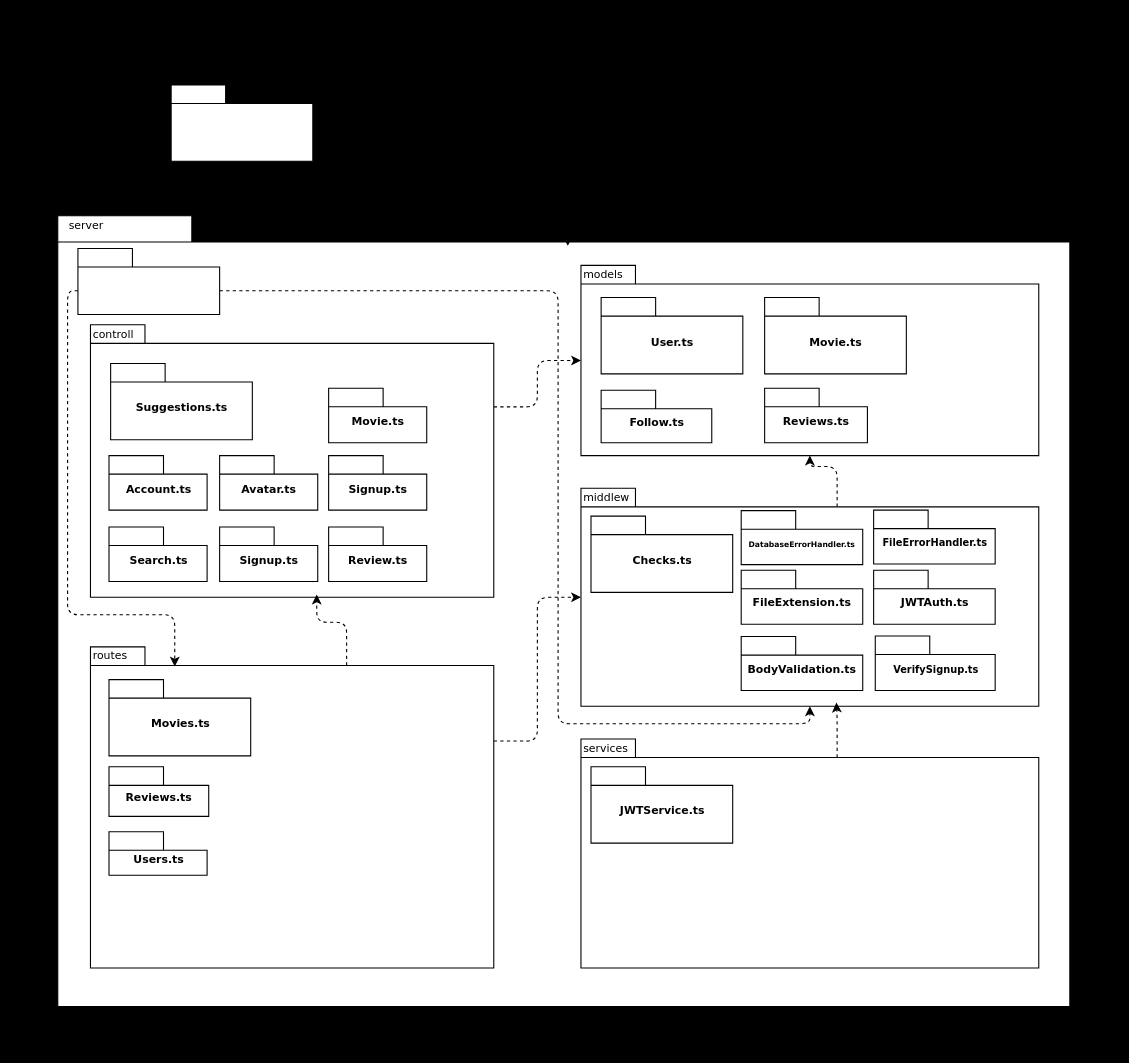
Image size: 1129x1063. Some labels were removed from this diagram. Each missing label, with the box of its shape:
index.ts: (170, 84, 313, 161)
Server.ts: (77, 247, 220, 314)
